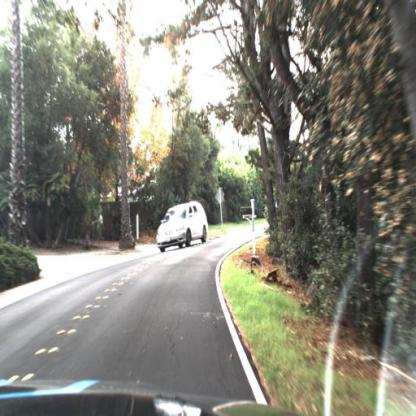car: (156, 201, 210, 254)
